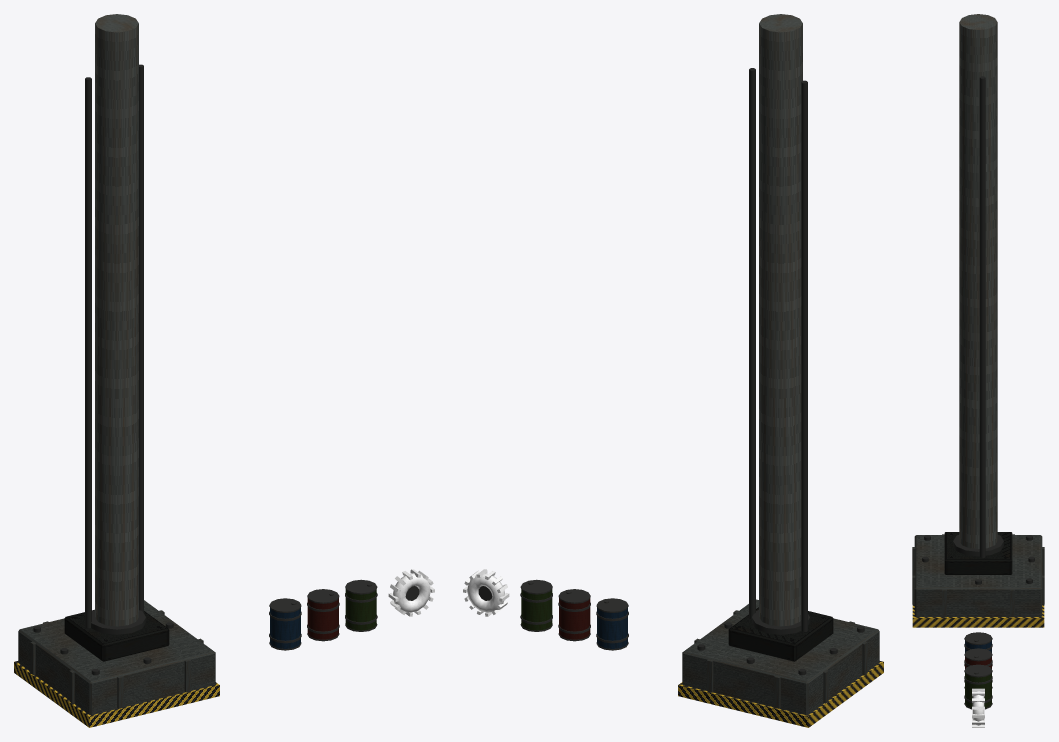
Rendered from piston.glb.
3 views of the same model, side by side, from view 1: azimuth 30°, elevation 25°; view 2: azimuth 150°, elevation 25°; view 3: azimuth 270°, elevation 25° (orthographic). The views are drawn at different scales.
Parts seen in each view (by area): view 1: press, barrel_4c6a2a, barrel_8a2f22, barrel_2f5c8a, tire; view 2: press, barrel_4c6a2a, barrel_8a2f22, barrel_2f5c8a, tire; view 3: press, barrel_4c6a2a, tire, barrel_8a2f22, barrel_2f5c8a.
Boxes of the visible parts, left/top/right/bottom form: press: left=14, top=14, right=219, bottom=727; barrel_4c6a2a: left=345, top=579, right=377, bottom=631; barrel_8a2f22: left=307, top=589, right=339, bottom=641; barrel_2f5c8a: left=269, top=598, right=301, bottom=650; tire: left=388, top=569, right=434, bottom=616; press: left=678, top=14, right=883, bottom=727; barrel_4c6a2a: left=520, top=579, right=552, bottom=631; barrel_8a2f22: left=558, top=589, right=590, bottom=641; barrel_2f5c8a: left=596, top=598, right=628, bottom=650; tire: left=463, top=569, right=509, bottom=616; press: left=912, top=14, right=1044, bottom=627; barrel_4c6a2a: left=964, top=664, right=992, bottom=709; tire: left=972, top=688, right=984, bottom=727; barrel_8a2f22: left=964, top=648, right=992, bottom=688; barrel_2f5c8a: left=964, top=632, right=992, bottom=666.
Size of the model in its own units: 9.02 by 15.02 by 3.12.
10 materials, 8 textured.
